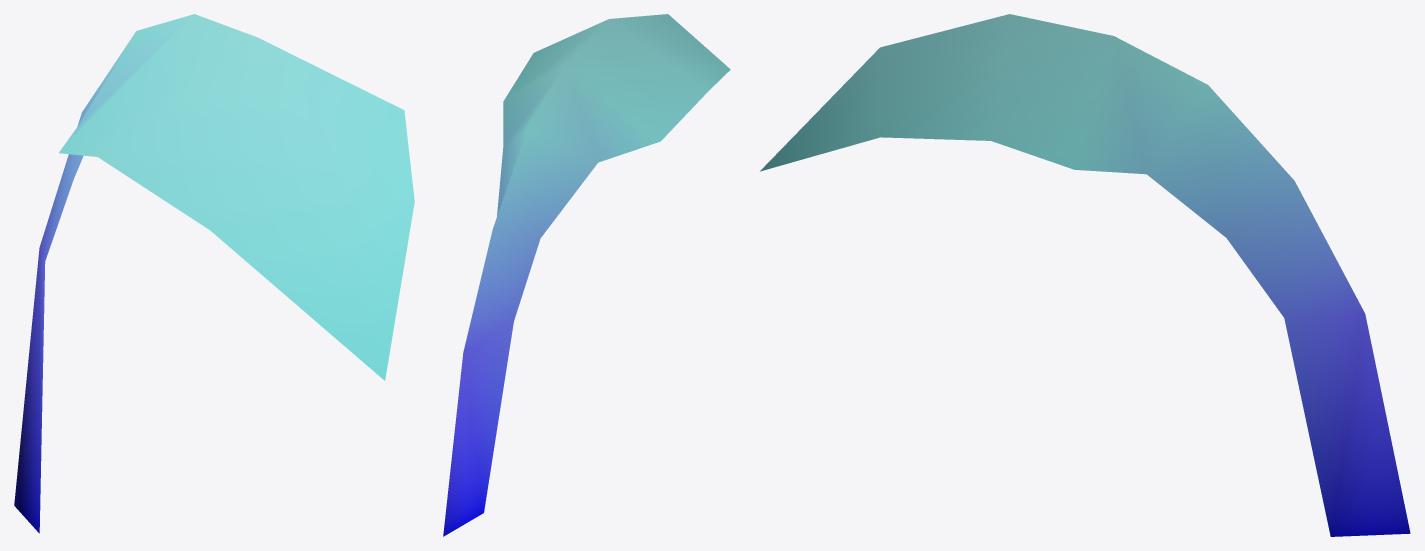
The model's file is SM_Env_Fern_Part_04.glb.
3 views of the same model, side by side, from view 1: azimuth 30°, elevation 25°; view 2: azimuth 150°, elevation 25°; view 3: azimuth 270°, elevation 25° (orthographic). The views are drawn at different scales.
Parts seen in each view (by area): view 1: SM_Env_Fern_Part_04_LOD0; view 2: SM_Env_Fern_Part_04_LOD0; view 3: SM_Env_Fern_Part_04_LOD0.
Part boxes in pixels (x1,y1,x2,y2): SM_Env_Fern_Part_04_LOD0: (14,14,414,533); SM_Env_Fern_Part_04_LOD0: (443,14,730,536); SM_Env_Fern_Part_04_LOD0: (760,14,1410,536).
Size of what is drawn, in the model's own units: 0.521 by 1.11 by 1.27.
